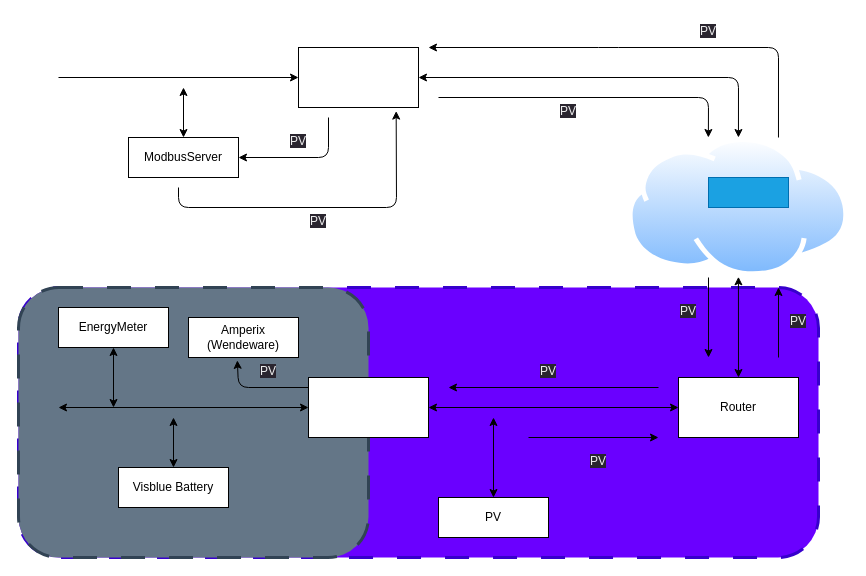
Image size: 866x576. Some labels were removed from this diagram. The shapes that lost their labels are listed below. From the top down, each one's box as (x1, y1, x2, y2) in pixels, then its label:
(298, 46, 418, 108): NAS
(708, 176, 788, 208): INTERNET
(308, 376, 428, 438): Sitemanager
